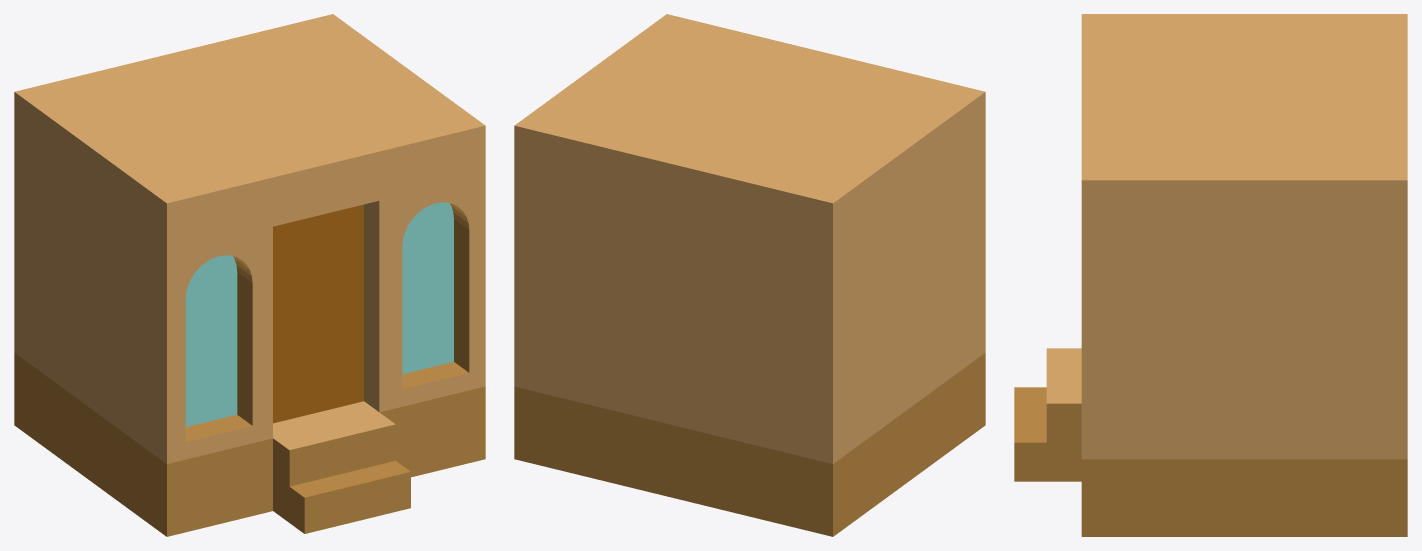
File: Building Base1.fbx
3 renders of one model, left to right at view 1: azimuth 30°, elevation 25°; view 2: azimuth 150°, elevation 25°; view 3: azimuth 270°, elevation 25°, orthographic. The views are drawn at different scales.
Parts seen in each view (by area): view 1: base3; view 2: base3; view 3: base3.
Part boxes in pixels (bbox=[...]): base3: bbox=[14, 14, 485, 536]; base3: bbox=[514, 14, 985, 536]; base3: bbox=[1014, 14, 1407, 536].
Size of the model in its own units: 300 by 300 by 300.
